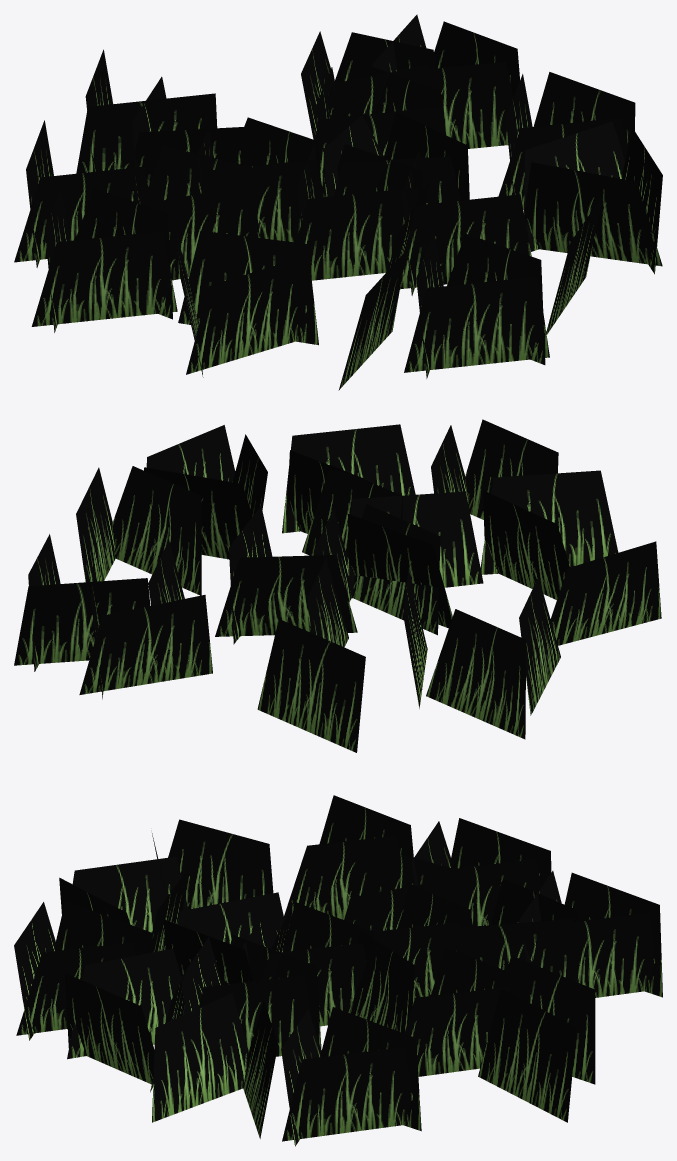
File: h25plt50.obj
The picture shows the model from 3 angles, top to bottom: view 1: azimuth 30°, elevation 25°; view 2: azimuth 150°, elevation 25°; view 3: azimuth 270°, elevation 25°; orthographic projection. The views are drawn at different scales.
Parts seen in each view (by area): view 1: polySurface72_polySurface72Shape; view 2: polySurface72_polySurface72Shape; view 3: polySurface72_polySurface72Shape.
Part boxes in pixels (<box>): polySurface72_polySurface72Shape: <box>14,14,662,390</box>; polySurface72_polySurface72Shape: <box>14,419,661,752</box>; polySurface72_polySurface72Shape: <box>14,795,662,1146</box>.
Size of the model in its own units: 2.34 by 0.3594 by 2.37.
1 material, 1 textured.
